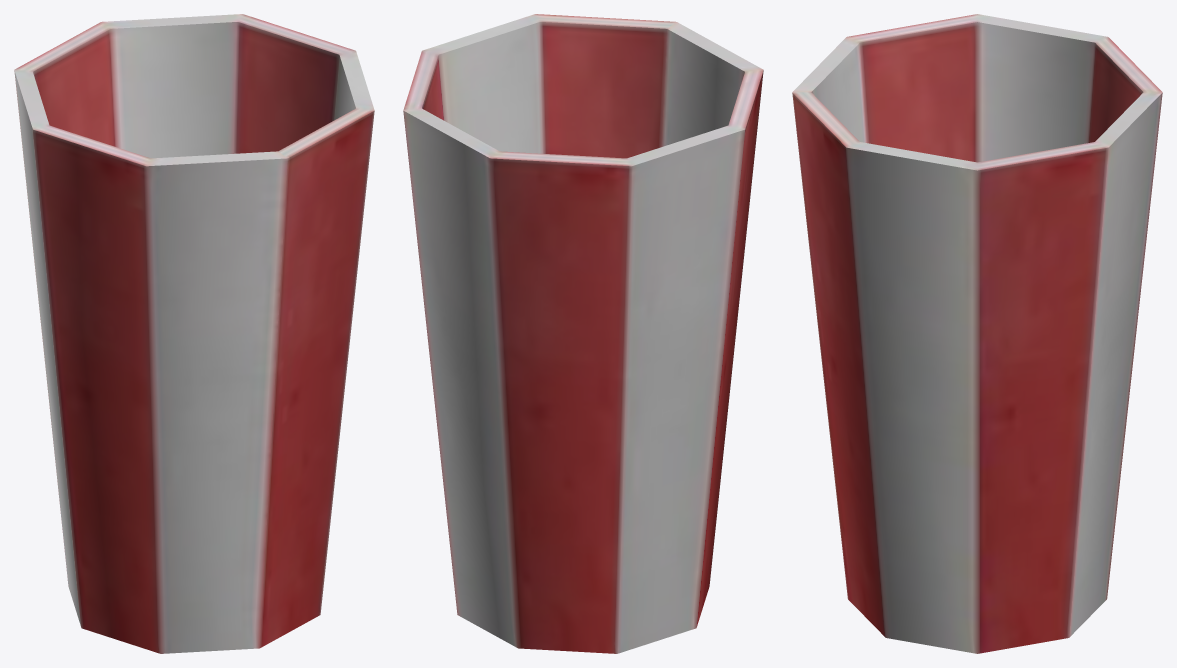
The model's file is soda-cup.glb.
The picture shows the model from 3 angles, left to right: view 1: azimuth 30°, elevation 25°; view 2: azimuth 150°, elevation 25°; view 3: azimuth 270°, elevation 25°; orthographic projection.
Parts seen in each view (by area): view 1: SM_Cup_Utensils_0; view 2: SM_Cup_Utensils_0; view 3: SM_Cup_Utensils_0.
Part boxes in pixels (box(x1,y1,x2,y2)): SM_Cup_Utensils_0: box(14, 14, 374, 653); SM_Cup_Utensils_0: box(403, 14, 763, 653); SM_Cup_Utensils_0: box(792, 14, 1162, 653).
Bounding box in the file's own units: 0.0924 × 0.1395 × 0.0924.
Materials: 1 (1 with a texture image).
